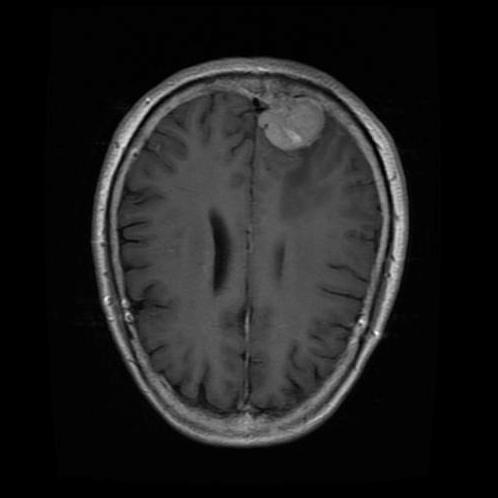Tumour-Meningioma: (239, 85, 342, 171)
